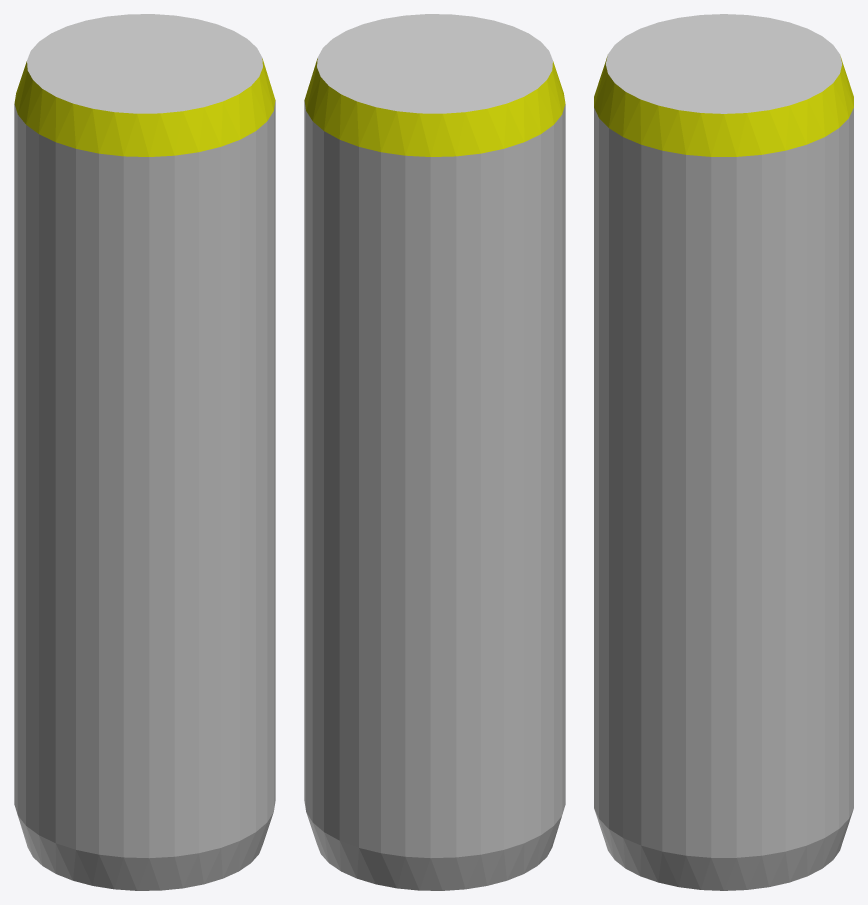
Rendered from Pedestal.fbx.
3 views of the same model, side by side, from view 1: azimuth 30°, elevation 25°; view 2: azimuth 150°, elevation 25°; view 3: azimuth 270°, elevation 25° (orthographic).
Parts seen in each view (by area): view 1: Cylinder.001; view 2: Cylinder.001; view 3: Cylinder.001.
Boxes of the visible parts, <box> form: Cylinder.001: <box>14,14,275,890</box>; Cylinder.001: <box>304,14,565,890</box>; Cylinder.001: <box>594,14,853,890</box>.
Bounding box in the file's own units: 40.38 × 133 × 40.38.
